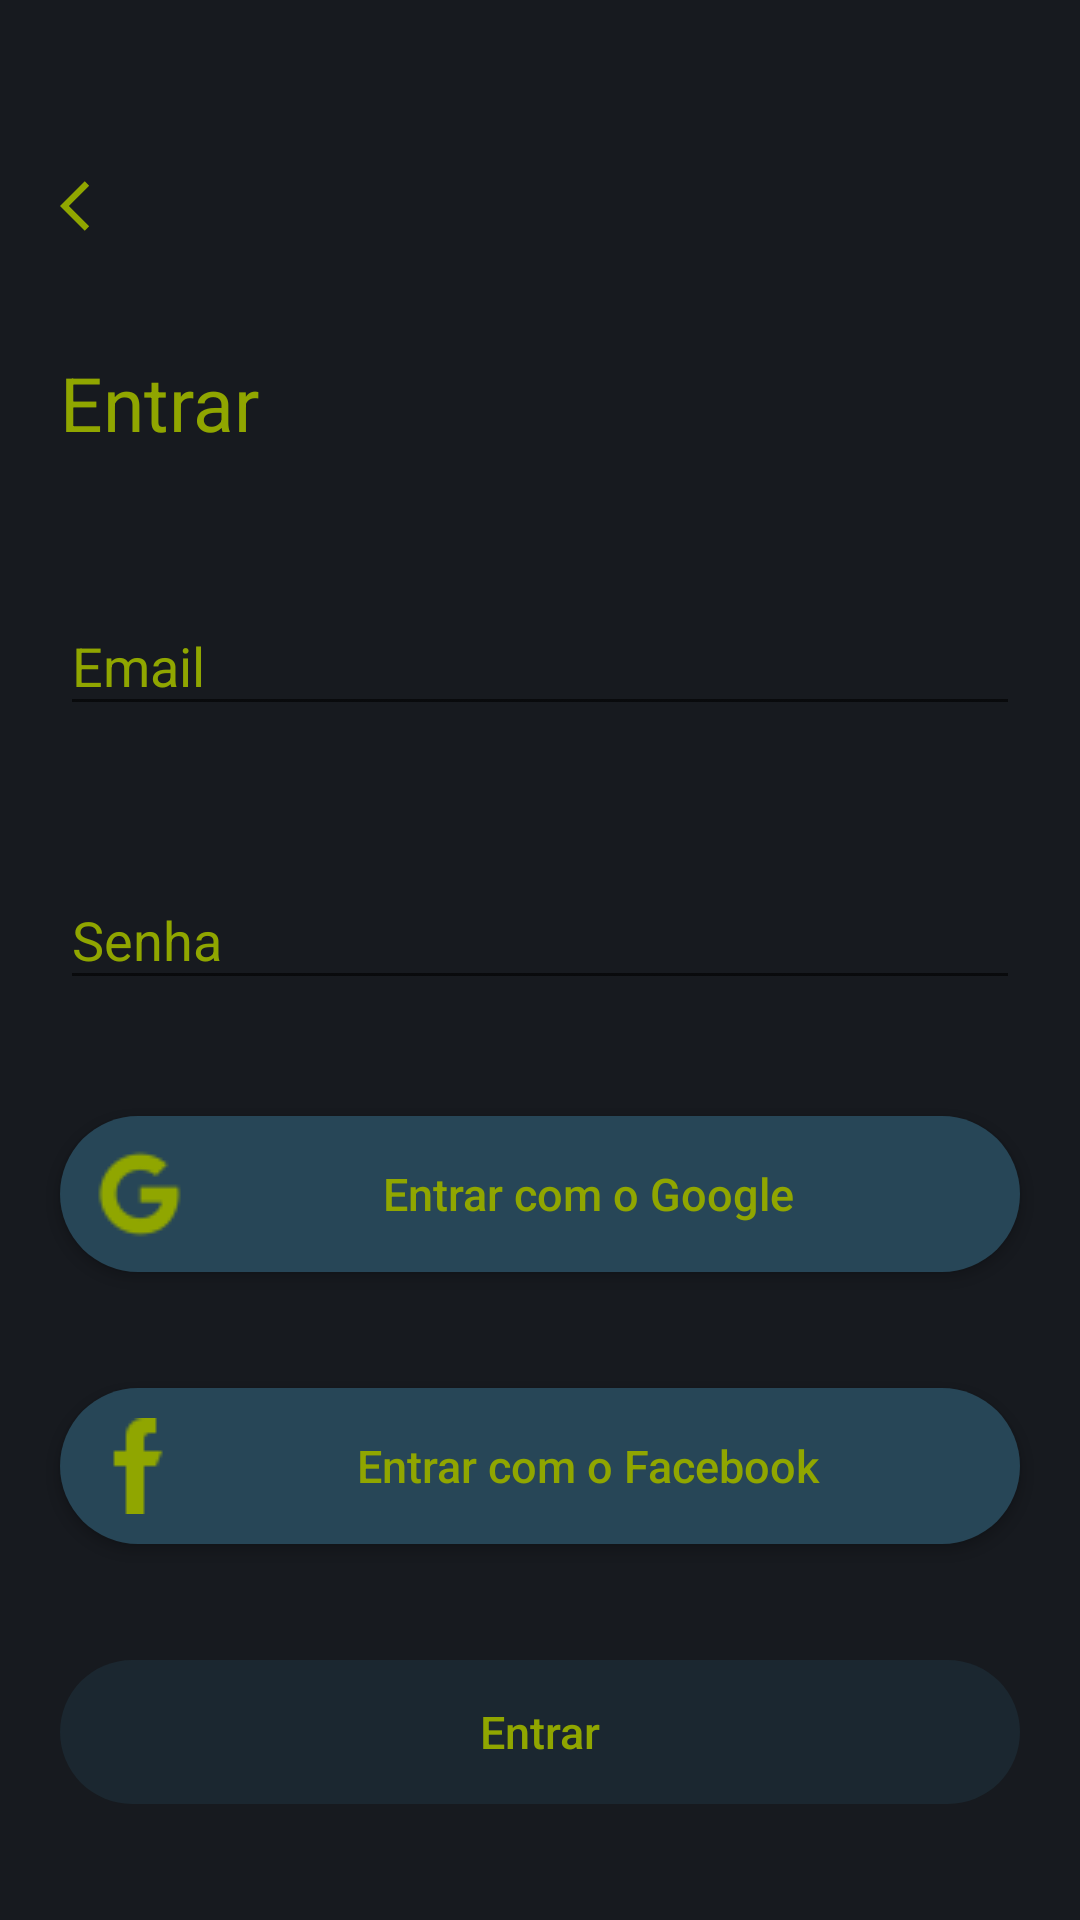

Icon bounding boxes for this 1080x1920 phone screenshot, format BBox(x1, y1, x2, y2):
arrow back: BBox(60, 181, 89, 231)
